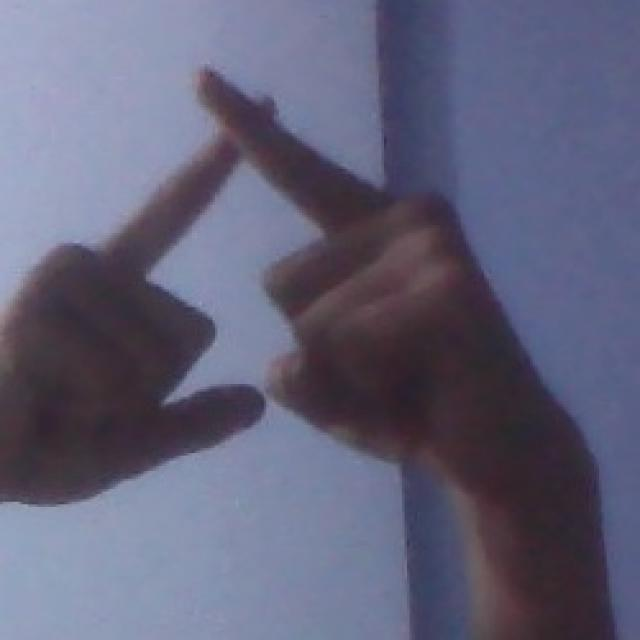Alphabet-X: (9, 62, 516, 513)
